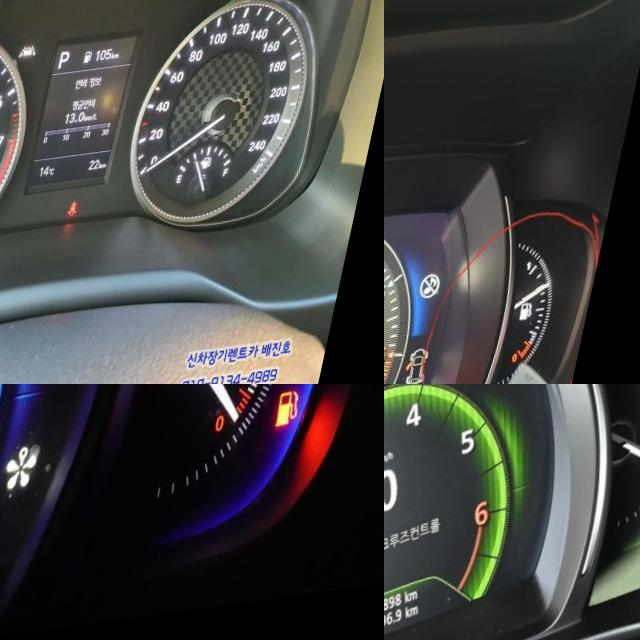LaneCenteringOff: (27, 50, 46, 65)
Low fuel level: (293, 400, 321, 439)
